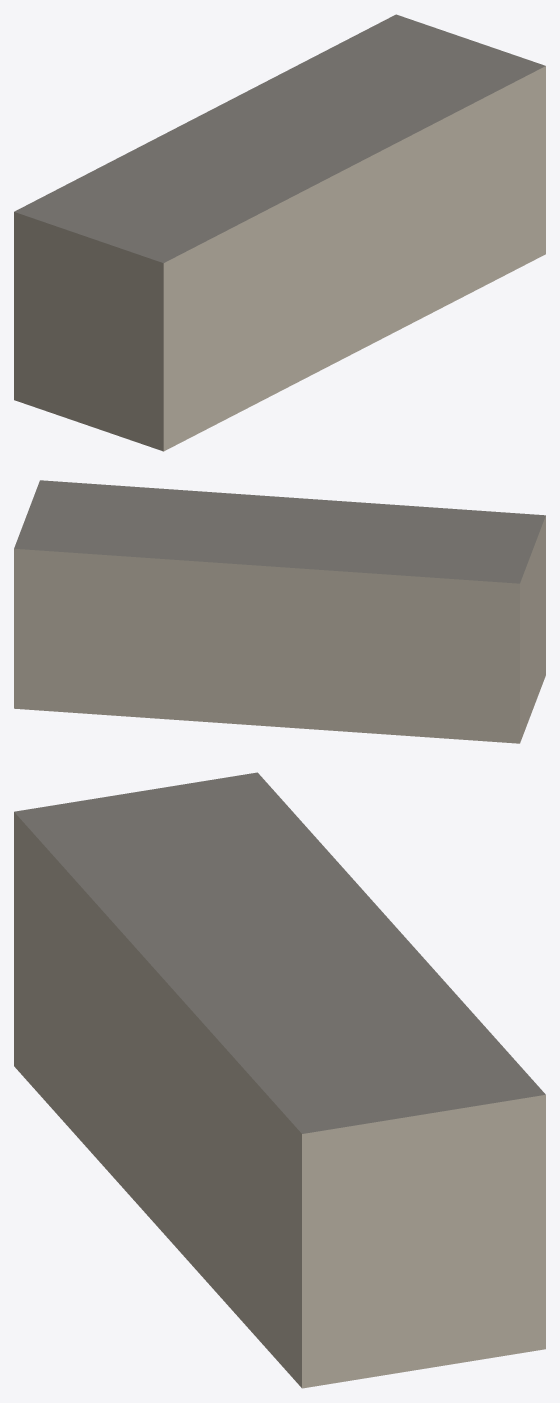
The picture shows the model from 3 angles, top to bottom: view 1: azimuth 30°, elevation 25°; view 2: azimuth 150°, elevation 25°; view 3: azimuth 270°, elevation 25°; orthographic projection. The views are drawn at different scales.
Parts seen in each view (by area): view 1: HP-w1287262151; view 2: HP-w1287262151; view 3: HP-w1287262151.
Part boxes in pixels (x1,y1,x2,y2): HP-w1287262151: [14, 14, 545, 451]; HP-w1287262151: [14, 480, 545, 743]; HP-w1287262151: [14, 772, 545, 1388].
Size of the model in its own units: 54.86 by 18 by 34.1.
